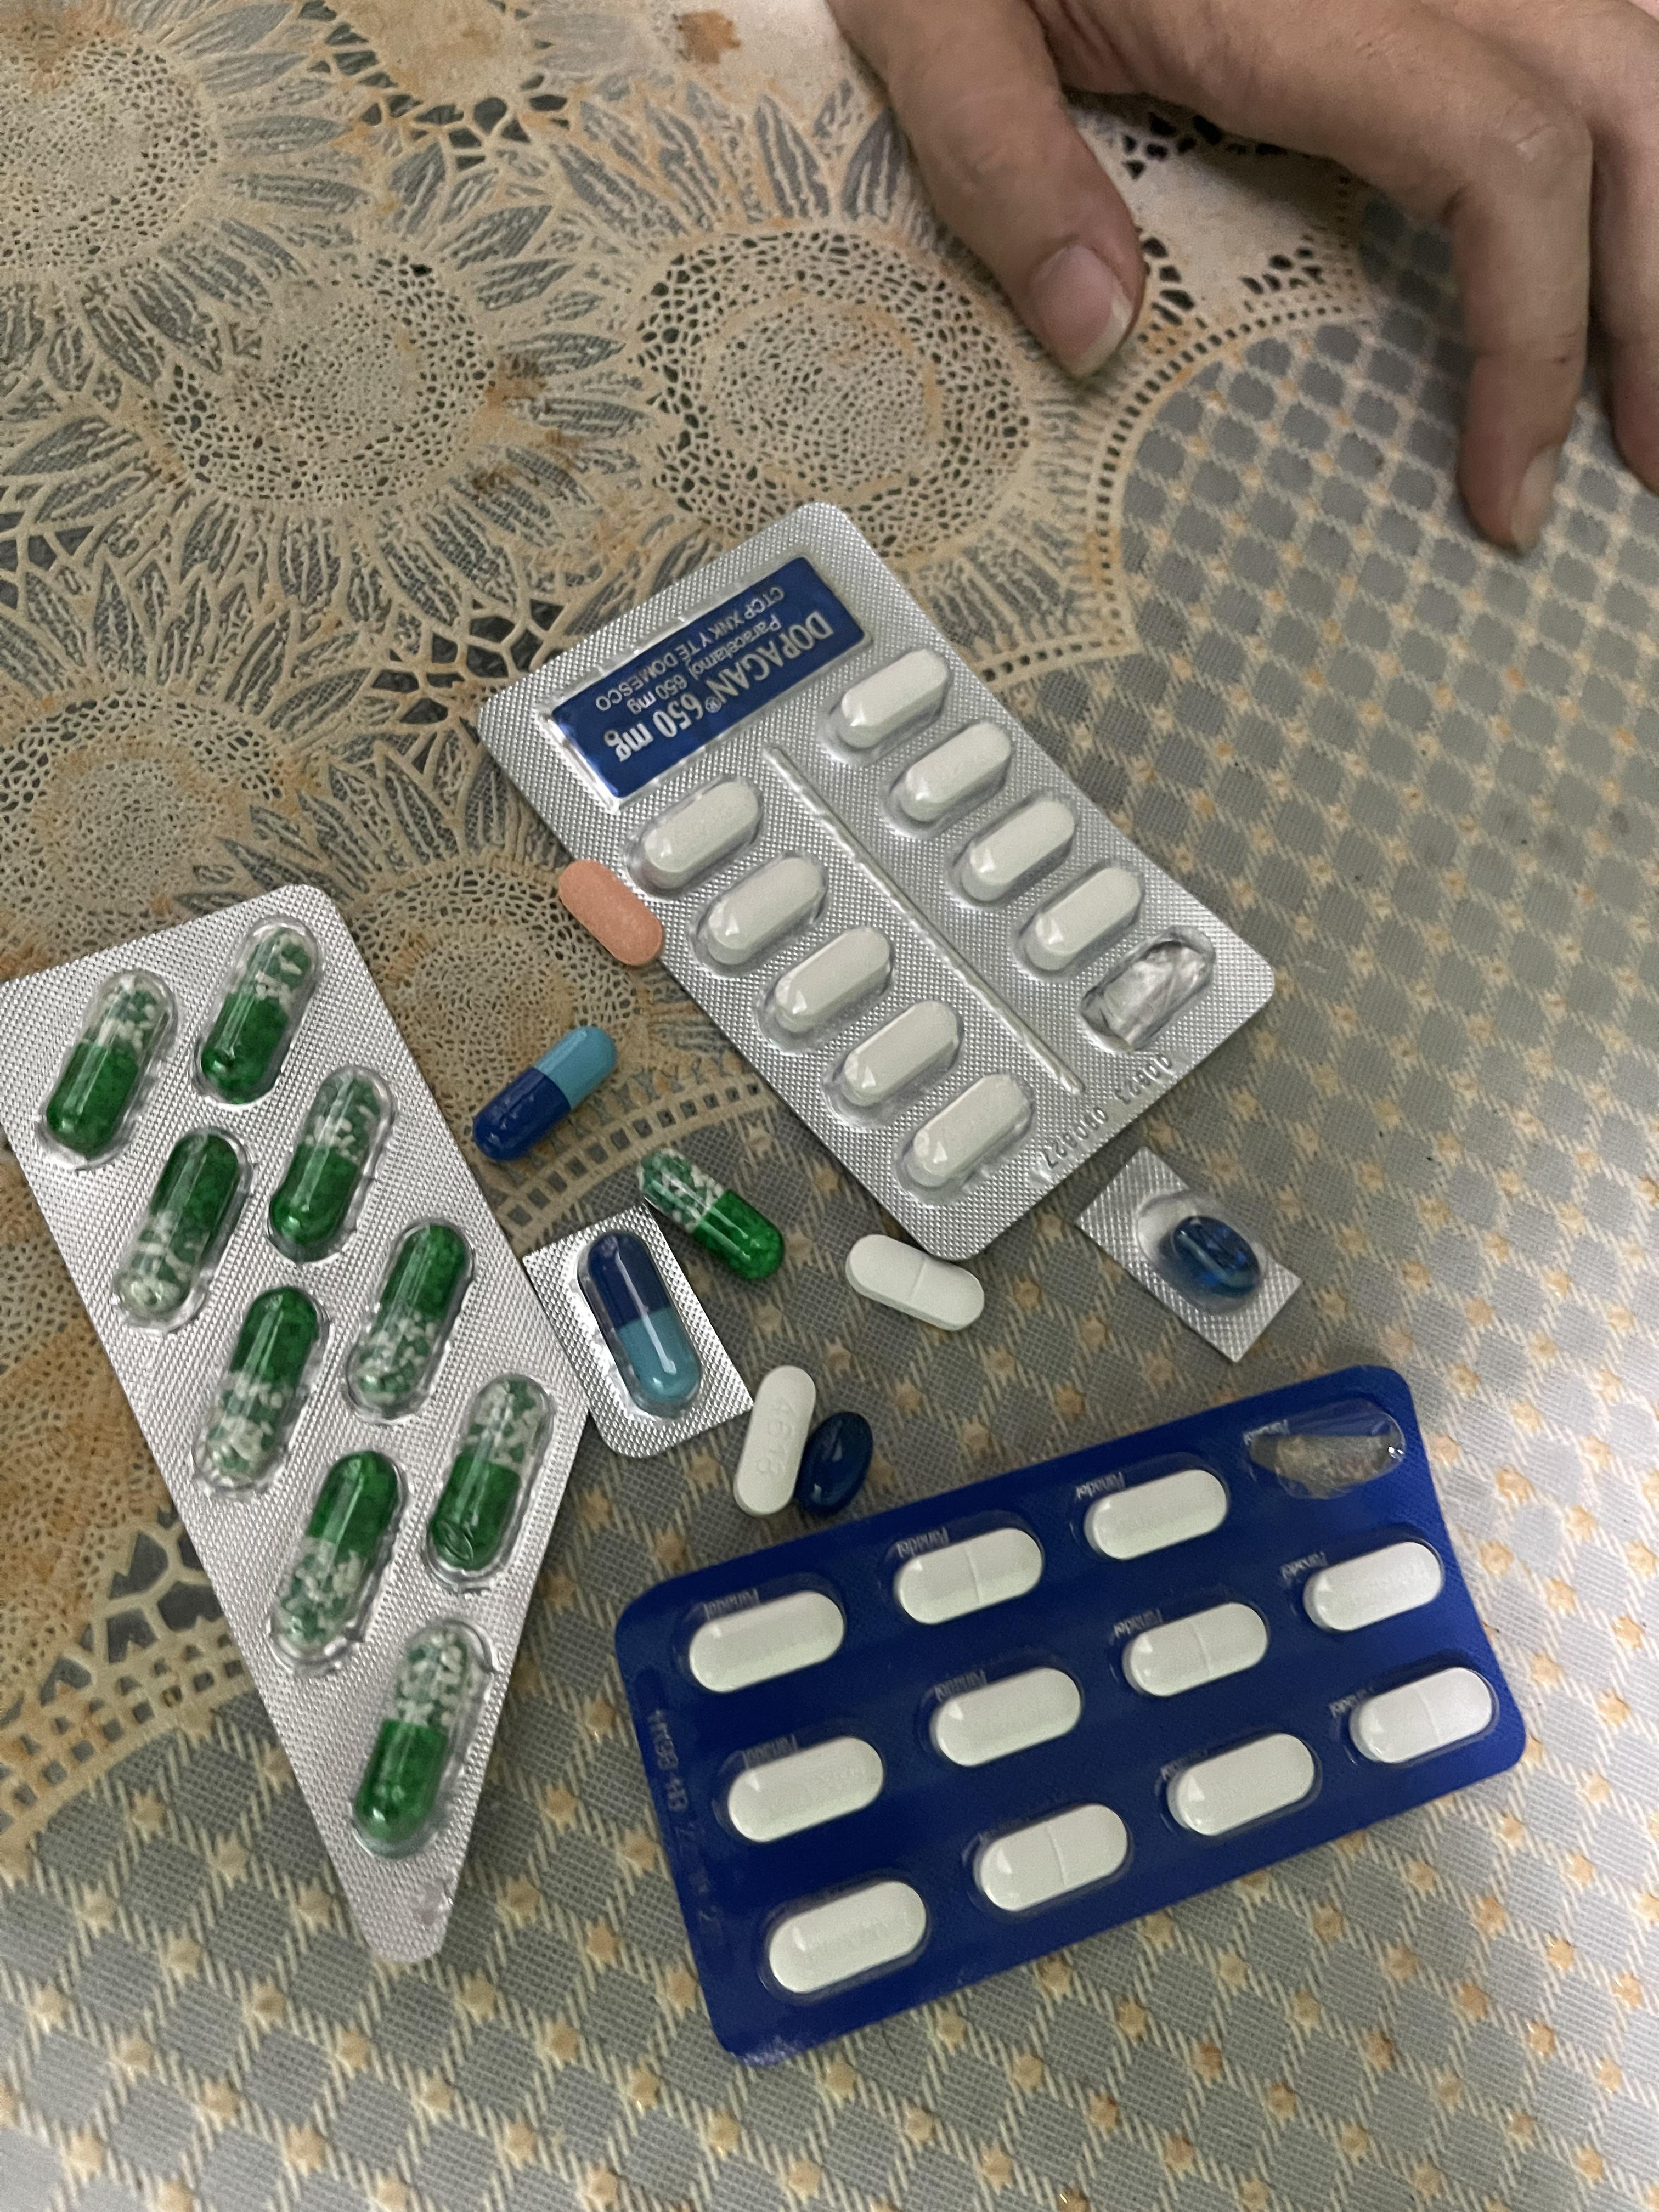Lincomyxin_500mg: (796, 1409, 873, 1519), (1169, 1213, 1263, 1297)
Loratadine_10mg: (556, 859, 666, 966)
Paracetamol_350mg: (764, 1877, 931, 2000), (973, 1802, 1136, 1915), (721, 1733, 883, 1844), (687, 1588, 847, 1696), (1166, 1734, 1321, 1842), (928, 1665, 1085, 1768), (894, 1525, 1044, 1625), (1347, 1668, 1496, 1769), (1120, 1601, 1269, 1699), (1083, 1465, 1233, 1561), (846, 1235, 987, 1334), (1301, 1539, 1446, 1634)
Paracetamol_500mg: (902, 1068, 1032, 1187), (632, 774, 760, 893), (764, 923, 890, 1039), (699, 853, 827, 968), (837, 997, 961, 1111), (1019, 857, 1141, 970), (956, 795, 1078, 906), (890, 719, 1013, 829), (830, 647, 950, 754), (730, 1368, 816, 1514)
Paracetamol_650mg: (349, 1617, 486, 1857), (269, 1454, 404, 1663), (112, 1133, 251, 1325), (193, 1285, 324, 1487), (424, 1381, 550, 1583), (40, 970, 175, 1158), (342, 1226, 472, 1418), (267, 1069, 392, 1253), (194, 921, 321, 1098), (640, 1149, 787, 1284)
pill: (582, 1229, 706, 1414), (475, 1028, 623, 1165)
